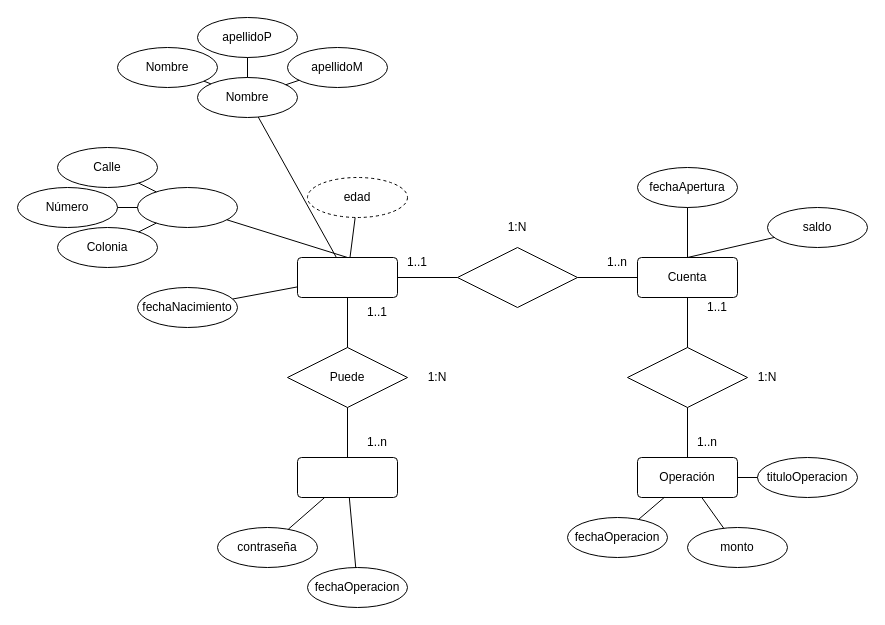
The diagram is 885 pixels wide and 625 high, and some of its shapes have lost their labels. The centre of each missing label's shape, as x and y in pixels:
Cliente: the point at 347,277
Domicilio: the point at 187,207
Realiza: the point at 687,377
RetiroSinCuenta: the point at 347,477
Tiene: the point at 517,277
